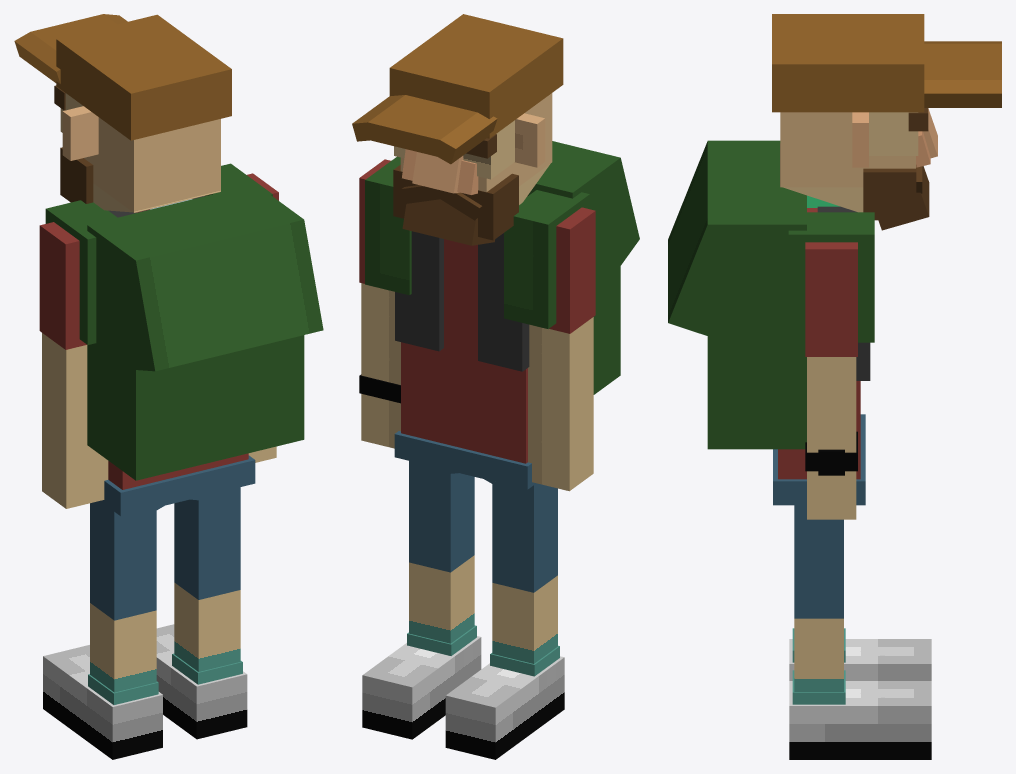
The model's file is gunnar.gltf.
3 views of the same model, side by side, from view 1: azimuth 30°, elevation 25°; view 2: azimuth 150°, elevation 25°; view 3: azimuth 270°, elevation 25° (orthographic). The views are drawn at different scales.
Parts seen in each view (by area): view 1: cube (×24); view 2: cube (×36); view 3: cube (×25).
Boxes of the visible parts, x1,y1,x2,y2 form: cube (×24): (14,14,323,759); cube (×36): (352,14,639,759); cube (×25): (668,14,1001,759).
Bounding box in the file's own units: 0.9625 × 2.85 × 1.26.
Materials: 1 (1 with a texture image).
